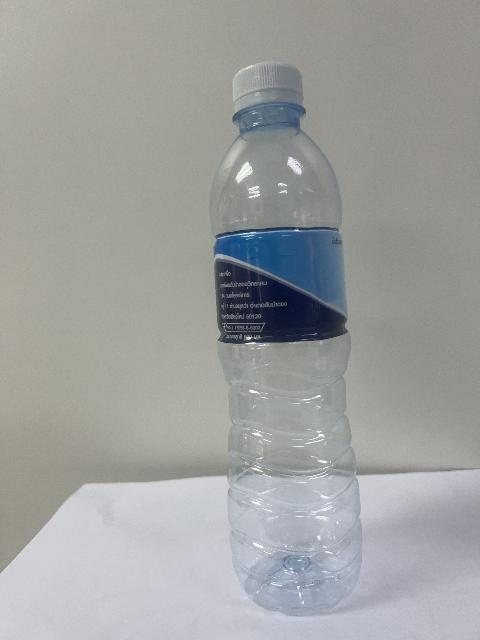bottle: (211, 63, 361, 615)
